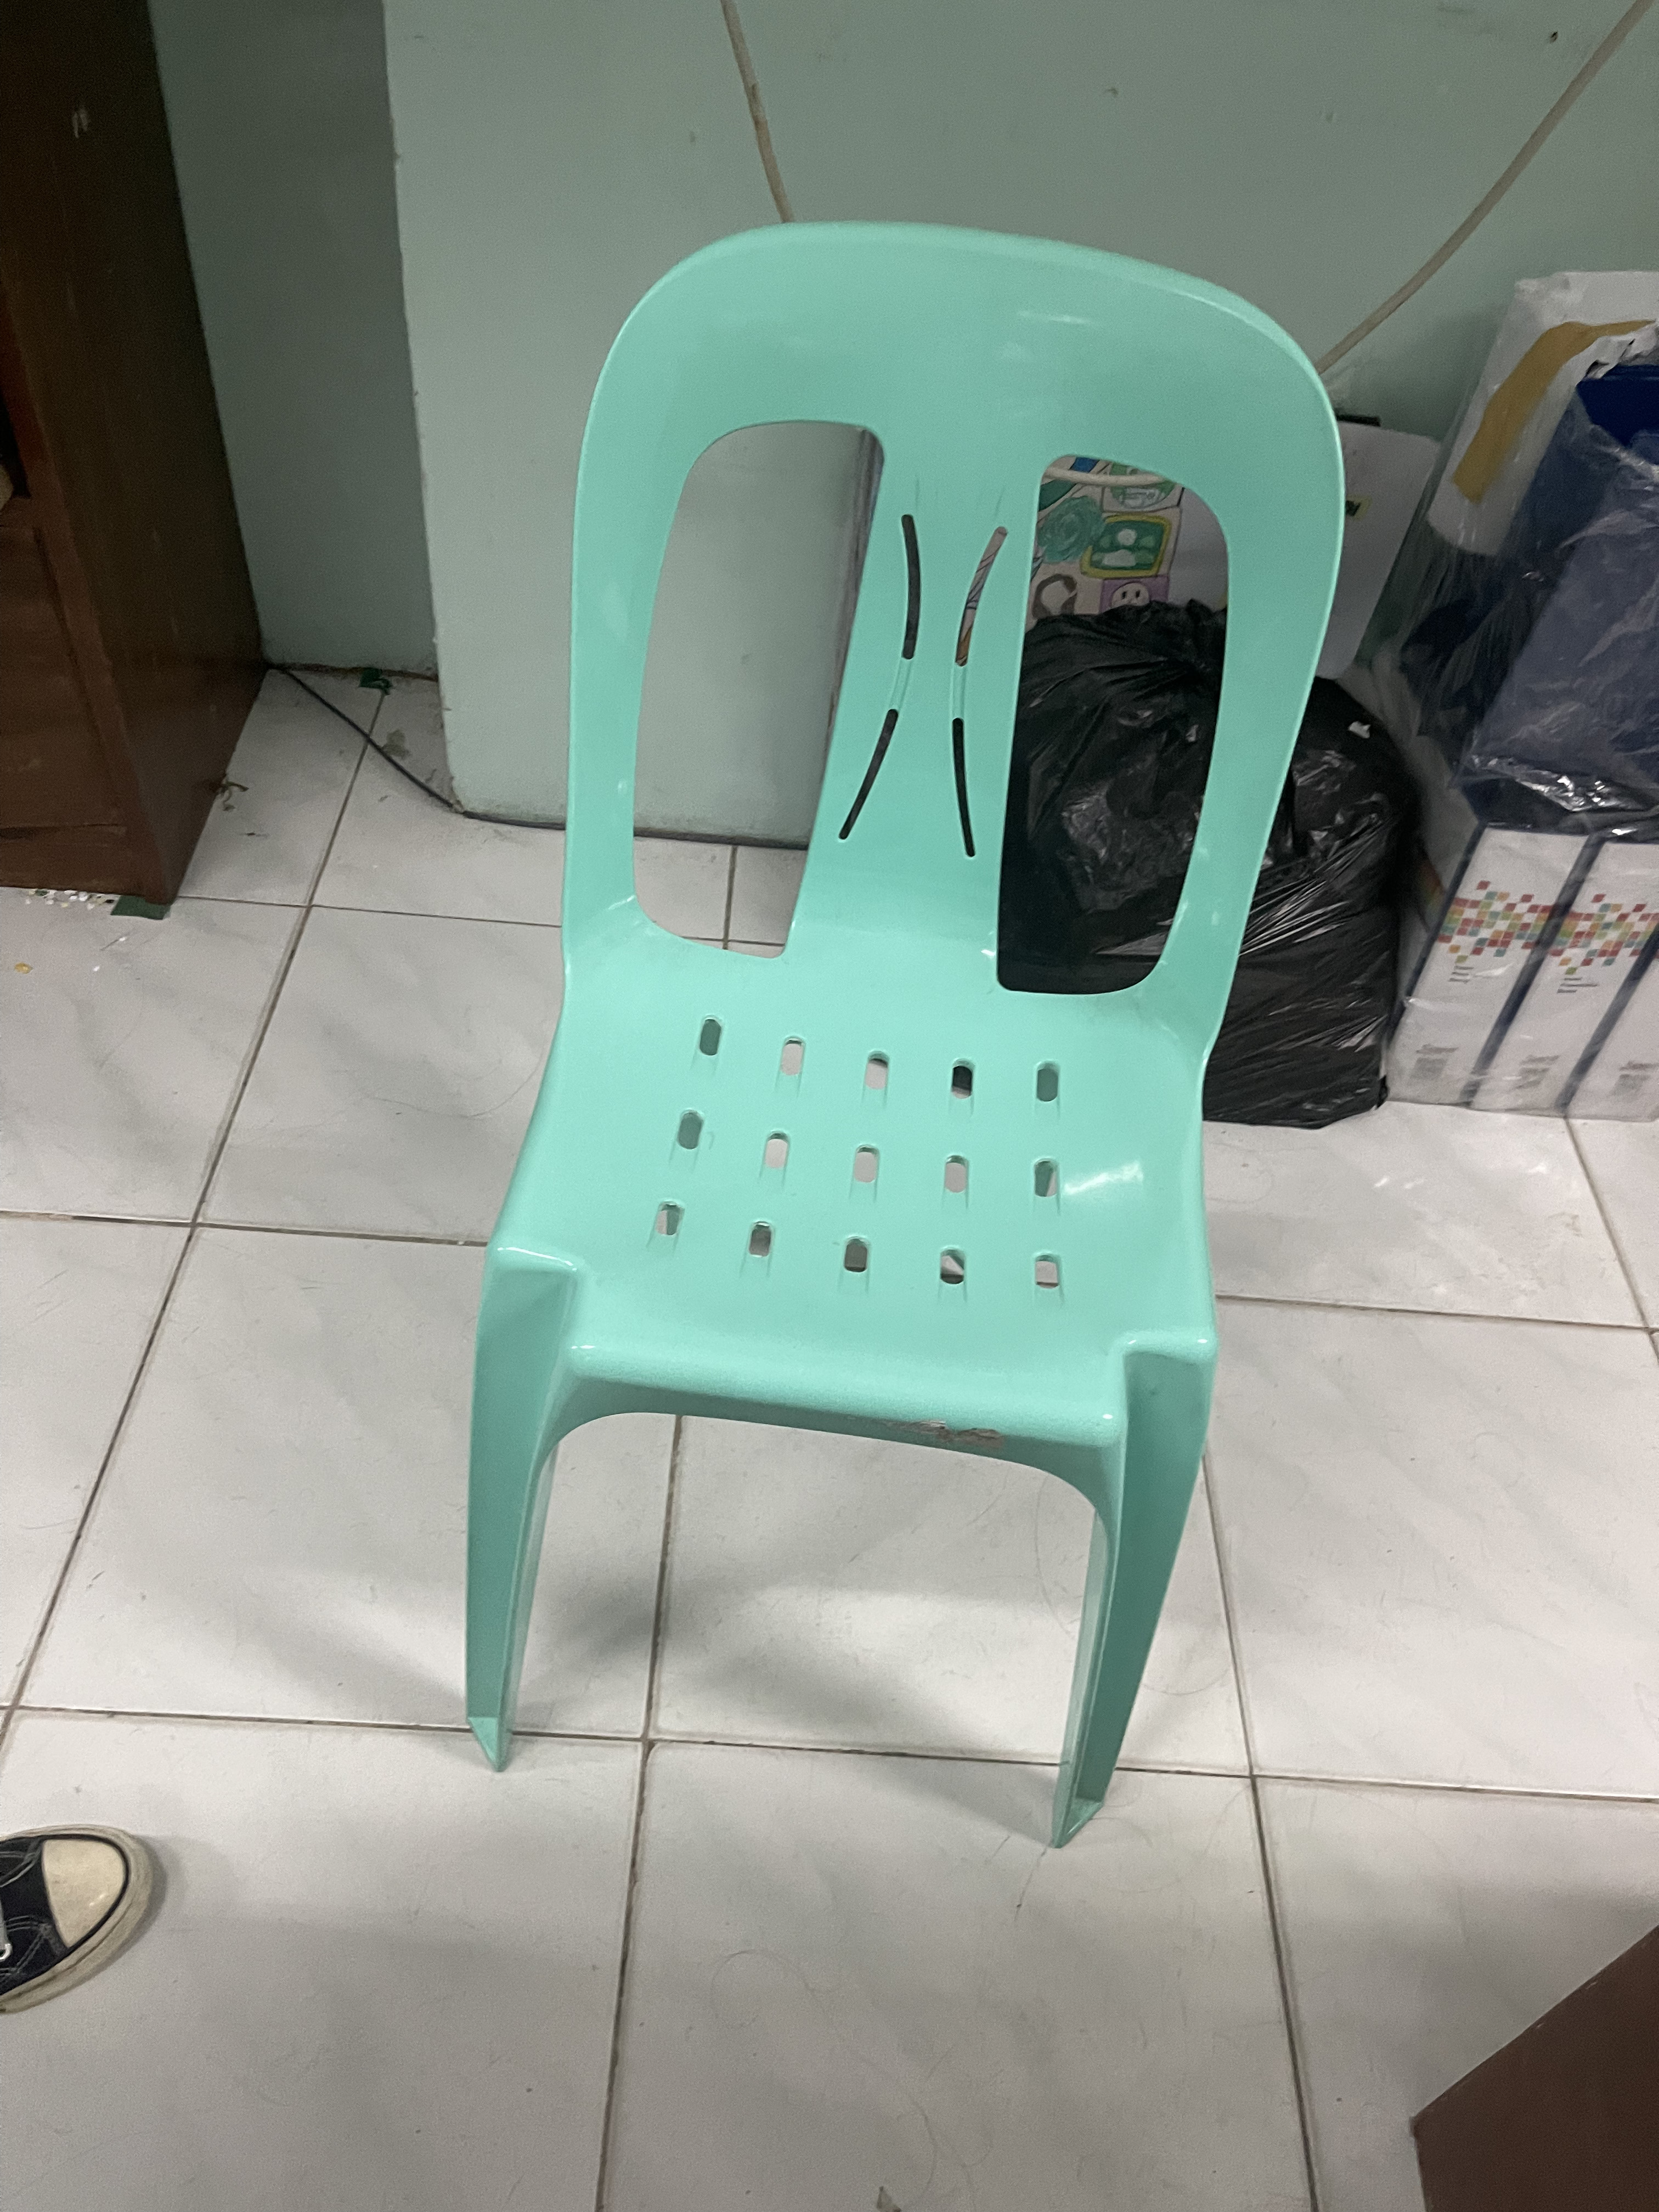chair2: (450, 214, 1351, 1860)
